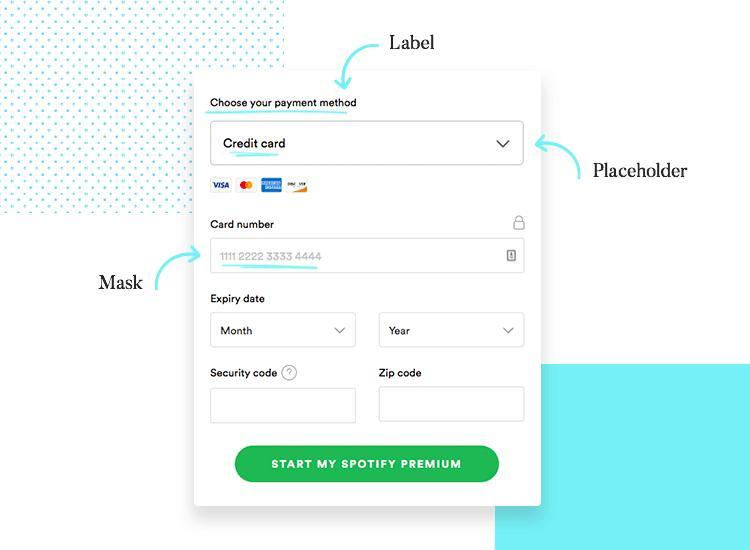button: (234, 446, 501, 484)
dropdown: (210, 122, 525, 167), (380, 312, 525, 348), (212, 313, 355, 349)
icon: (512, 215, 529, 234)
input: (211, 239, 525, 276), (379, 388, 525, 425), (210, 390, 357, 424)
label: (210, 97, 359, 110), (209, 367, 280, 381), (212, 220, 276, 232), (211, 294, 267, 306), (379, 368, 425, 381)
